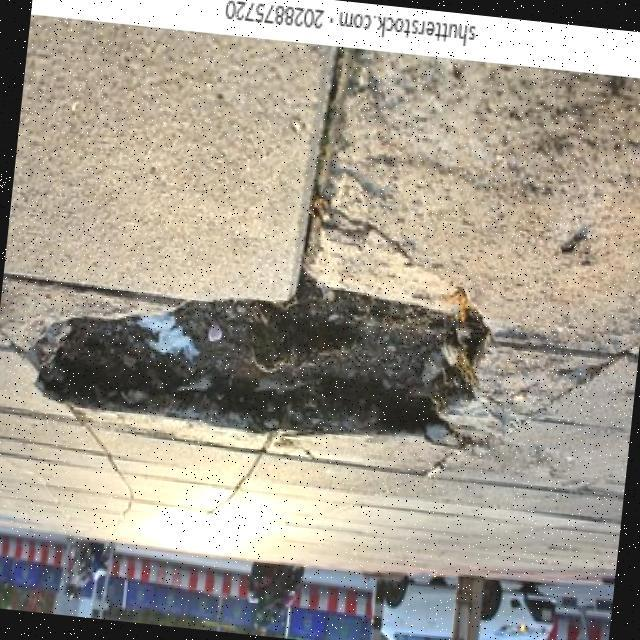Pothole: (21, 273, 486, 439)
